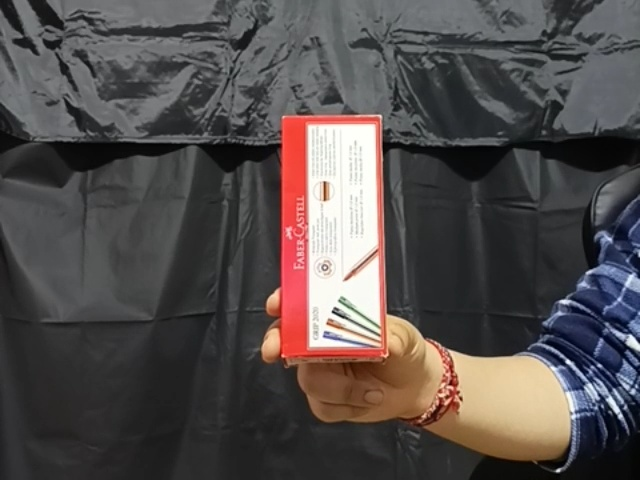xd: (278, 114, 391, 363)
